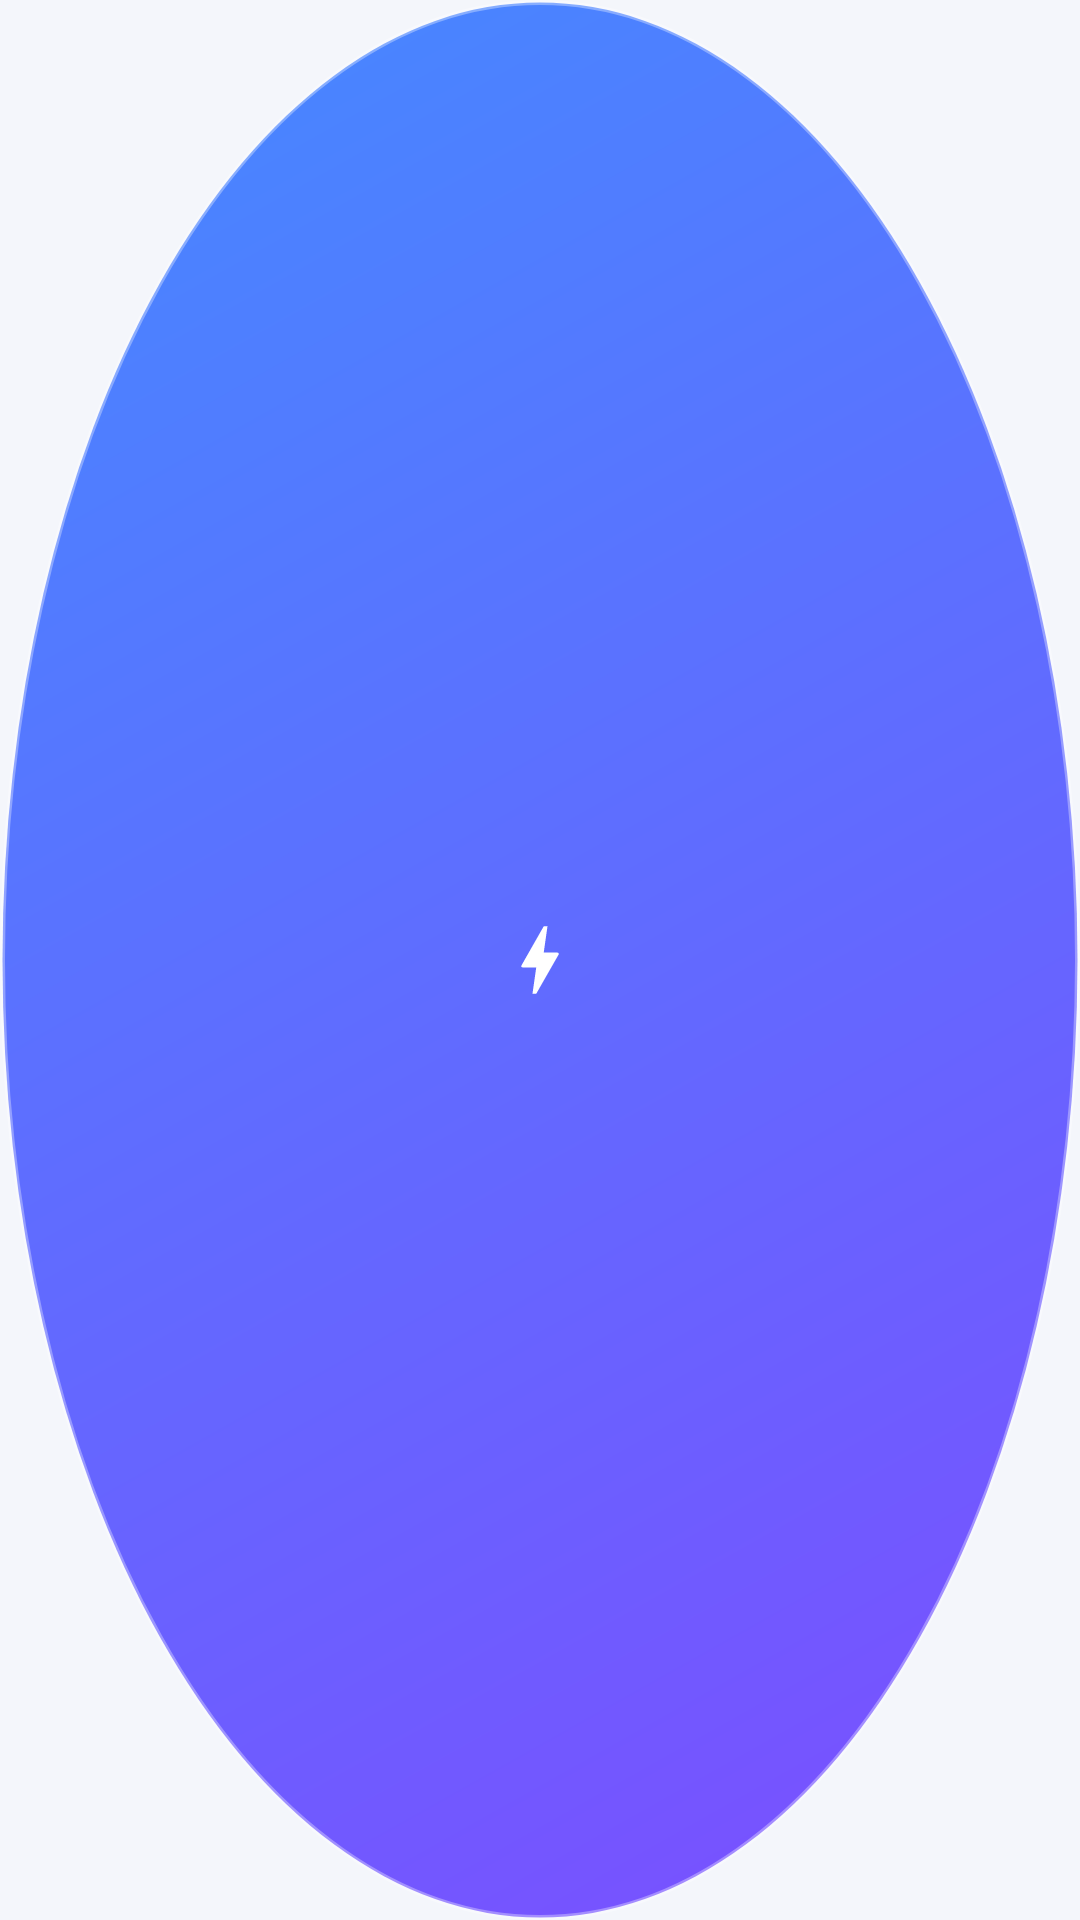

Icons on this 1080x1920 Android screen, each with its box as (x1, y1, x2, y2):
bolt: (521, 926, 559, 994)
